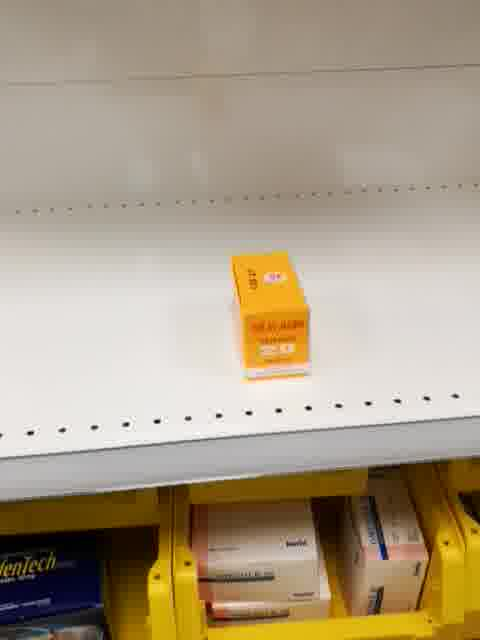jasminetea: (227, 249, 313, 383)
